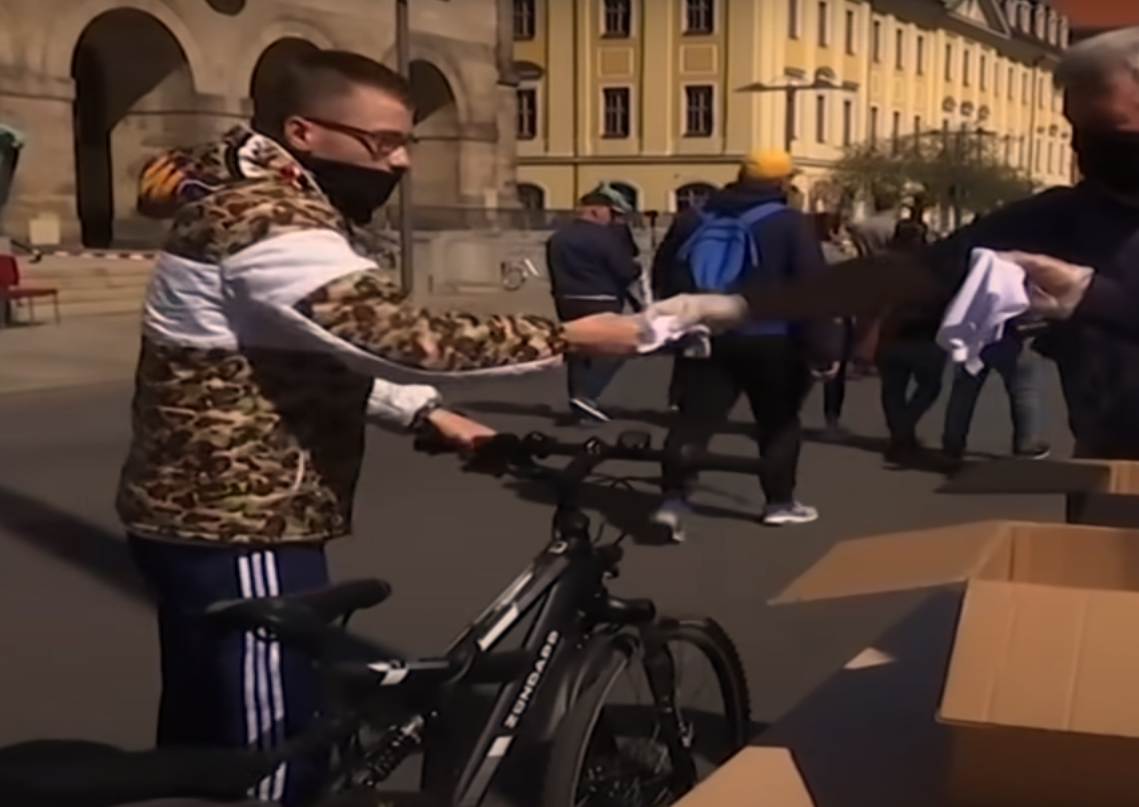mask_weared_incorrect: (255, 47, 424, 222)
